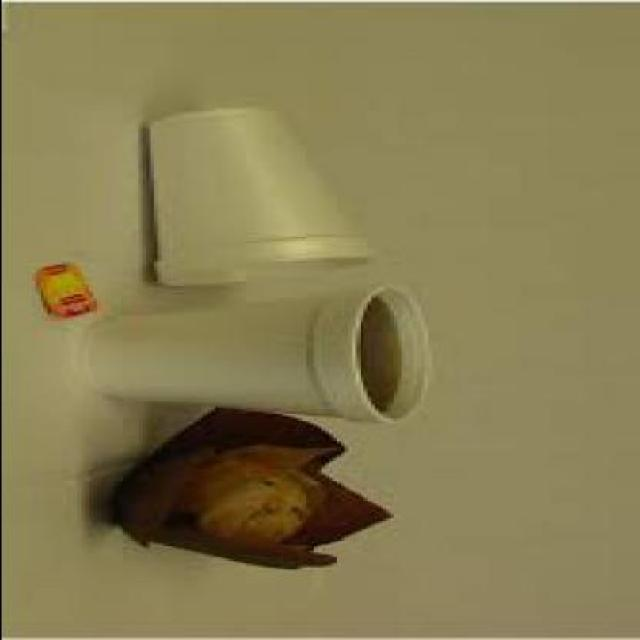BIODEGRADABLE: (171, 459, 312, 546), (358, 301, 400, 416)
PAPER: (96, 286, 438, 425), (114, 409, 392, 569), (145, 111, 377, 292), (35, 265, 99, 318)
